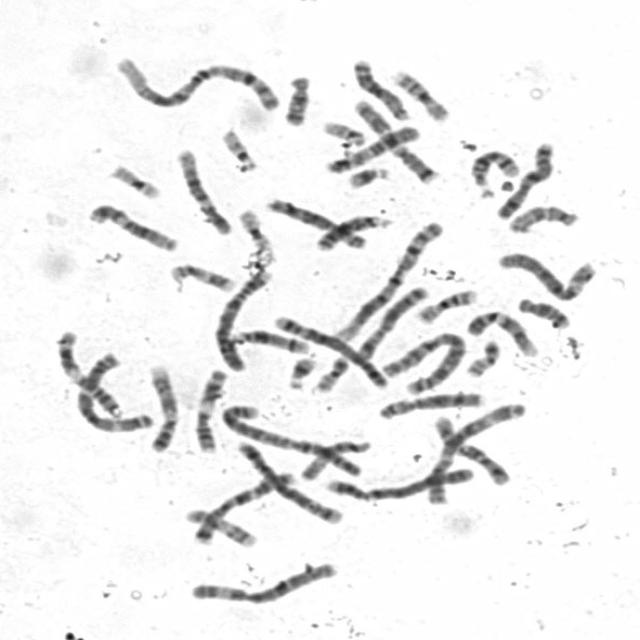A1: (329, 216, 445, 343), (109, 49, 284, 112)
A2: (213, 398, 367, 478), (376, 325, 469, 395)
A3: (420, 396, 530, 507), (68, 347, 155, 435)
B4: (207, 263, 275, 373), (318, 461, 478, 504)
B5: (230, 434, 346, 526), (267, 308, 390, 390)
C10: (426, 410, 512, 489), (321, 119, 424, 175)
C11: (49, 322, 128, 418), (188, 362, 230, 454)
C12: (170, 142, 235, 236), (82, 197, 181, 253)
C6: (183, 556, 340, 606), (494, 245, 600, 302)
C7: (185, 464, 299, 546), (346, 93, 441, 185)
C8: (261, 192, 371, 250), (372, 386, 488, 421)
C9: (462, 304, 542, 358), (141, 358, 182, 454)
D13: (346, 52, 414, 122), (310, 209, 394, 252)
D14: (465, 142, 522, 196), (224, 323, 313, 355)
D15: (294, 433, 374, 481), (502, 198, 582, 234)
E16: (387, 64, 452, 124), (410, 283, 481, 324)
E17: (180, 502, 260, 549), (164, 256, 238, 294)
E18: (511, 292, 573, 329), (277, 68, 314, 128)
F19: (103, 158, 164, 200), (233, 202, 274, 248)
F20: (460, 333, 504, 378), (307, 350, 351, 393)
G21: (341, 160, 393, 190), (282, 350, 321, 390)
G22: (214, 122, 261, 174), (316, 115, 368, 147)
X: (349, 279, 431, 362), (489, 136, 556, 220)
